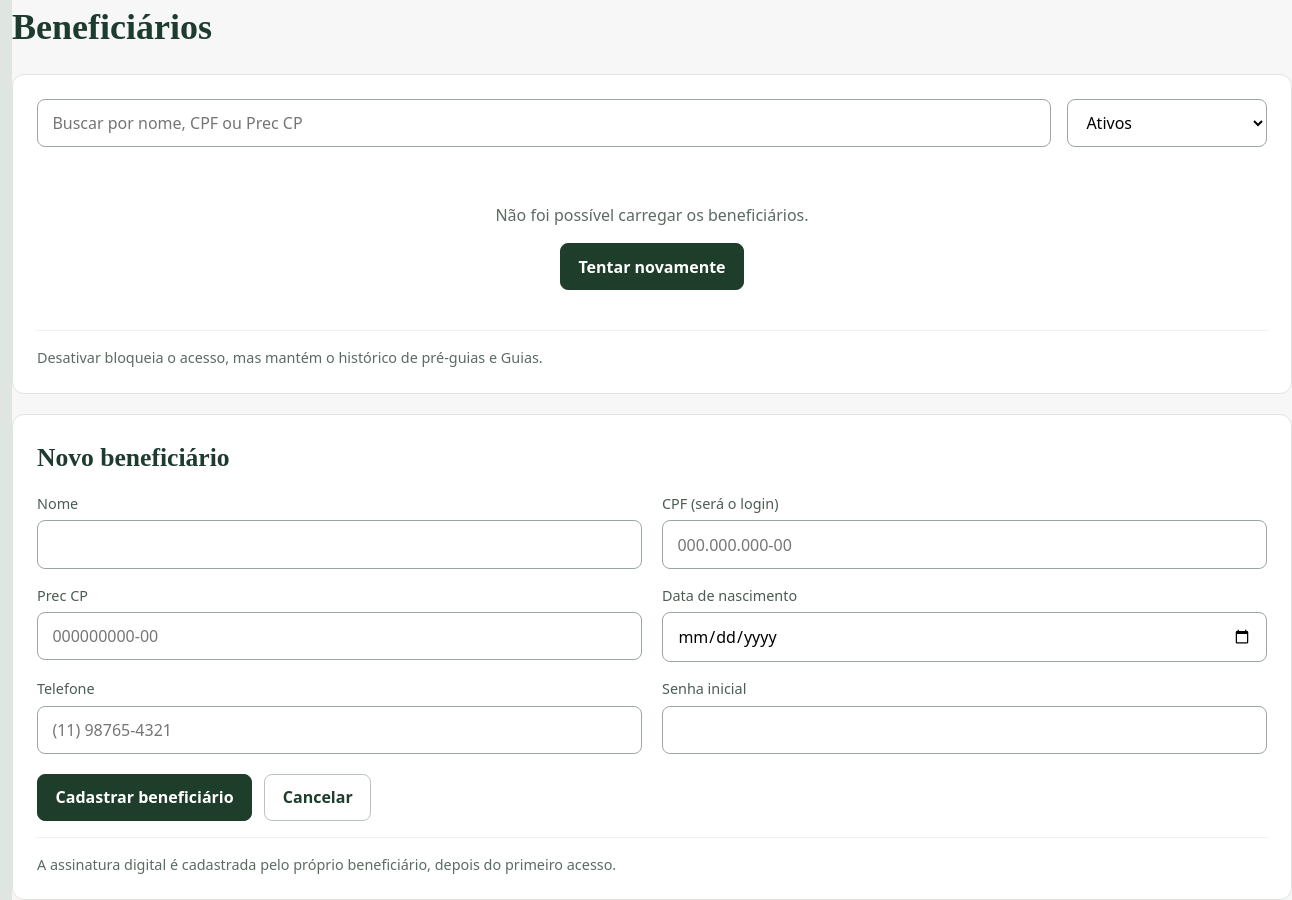
Test: T7-FE · Tela Beneficiários › mostra erro e tenta novamente
expect the message shows "Não foi possível carregar os beneficiários.": met, box [496,204,809,226]
Click the button "Tentar novamente": (652, 267) [560,243,744,290]
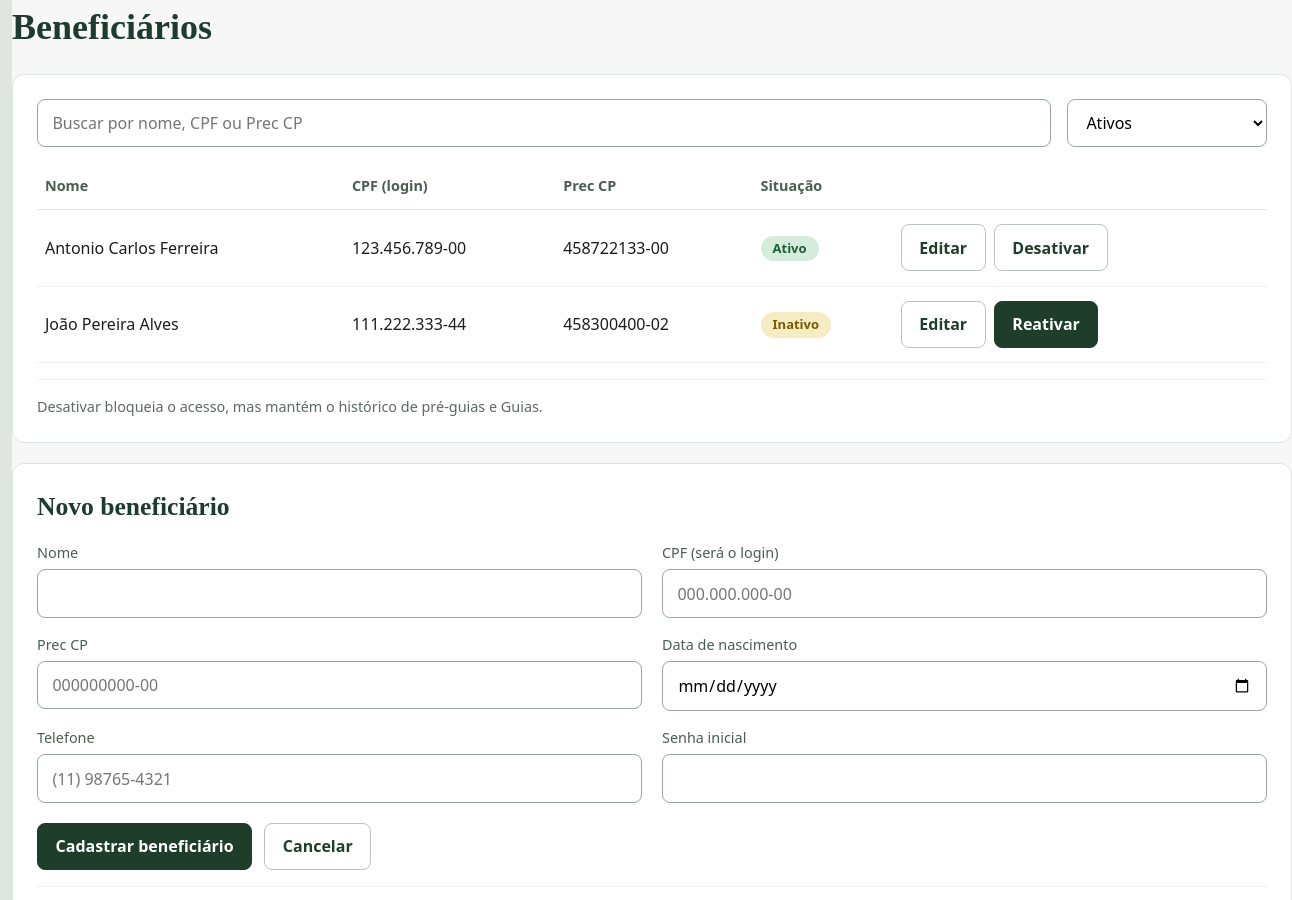
expect the text "Antonio Carlos Ferreira" is shown: met, box [37,210,344,286]
